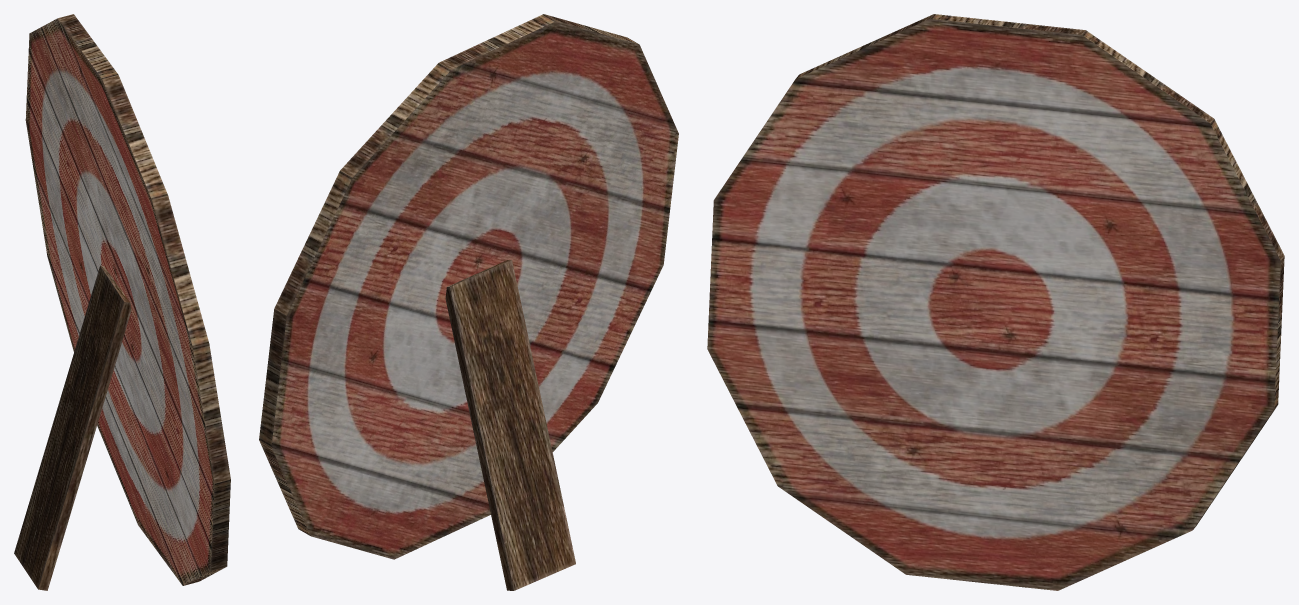
The model's file is Archery_Target.glb.
3 views of the same model, side by side, from view 1: azimuth 30°, elevation 25°; view 2: azimuth 150°, elevation 25°; view 3: azimuth 270°, elevation 25° (orthographic).
Parts seen in each view (by area): view 1: aim; view 2: aim; view 3: aim.
Part boxes in pixels (x1=…): aim: x1=14, y1=14, x2=230, y2=590; aim: x1=259, y1=14, x2=678, y2=590; aim: x1=707, y1=14, x2=1284, y2=590.
Bounding box in the file's own units: 0.3458 × 1 × 0.9906.
1 material, 1 textured.
